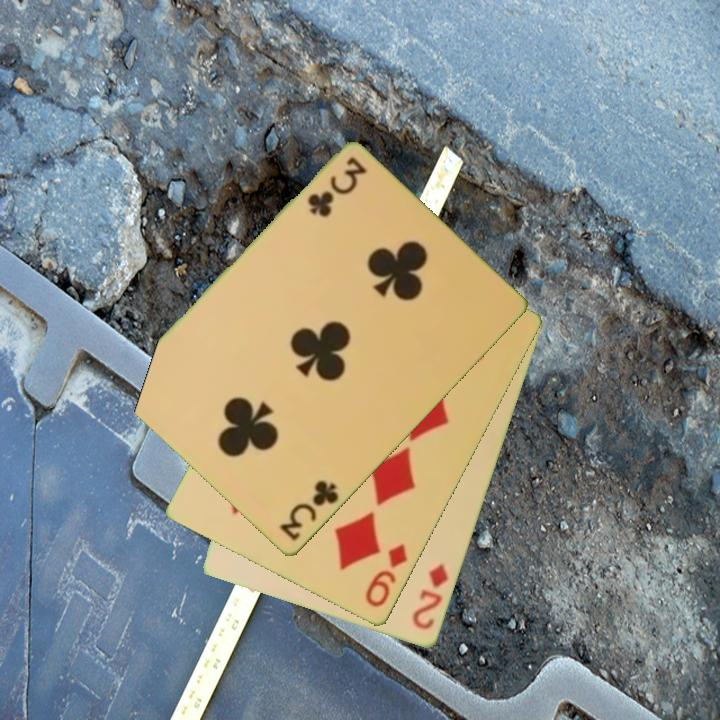2d: (409, 561, 452, 633)
3c: (275, 477, 342, 544), (303, 153, 369, 220)
9d: (362, 540, 411, 611)
